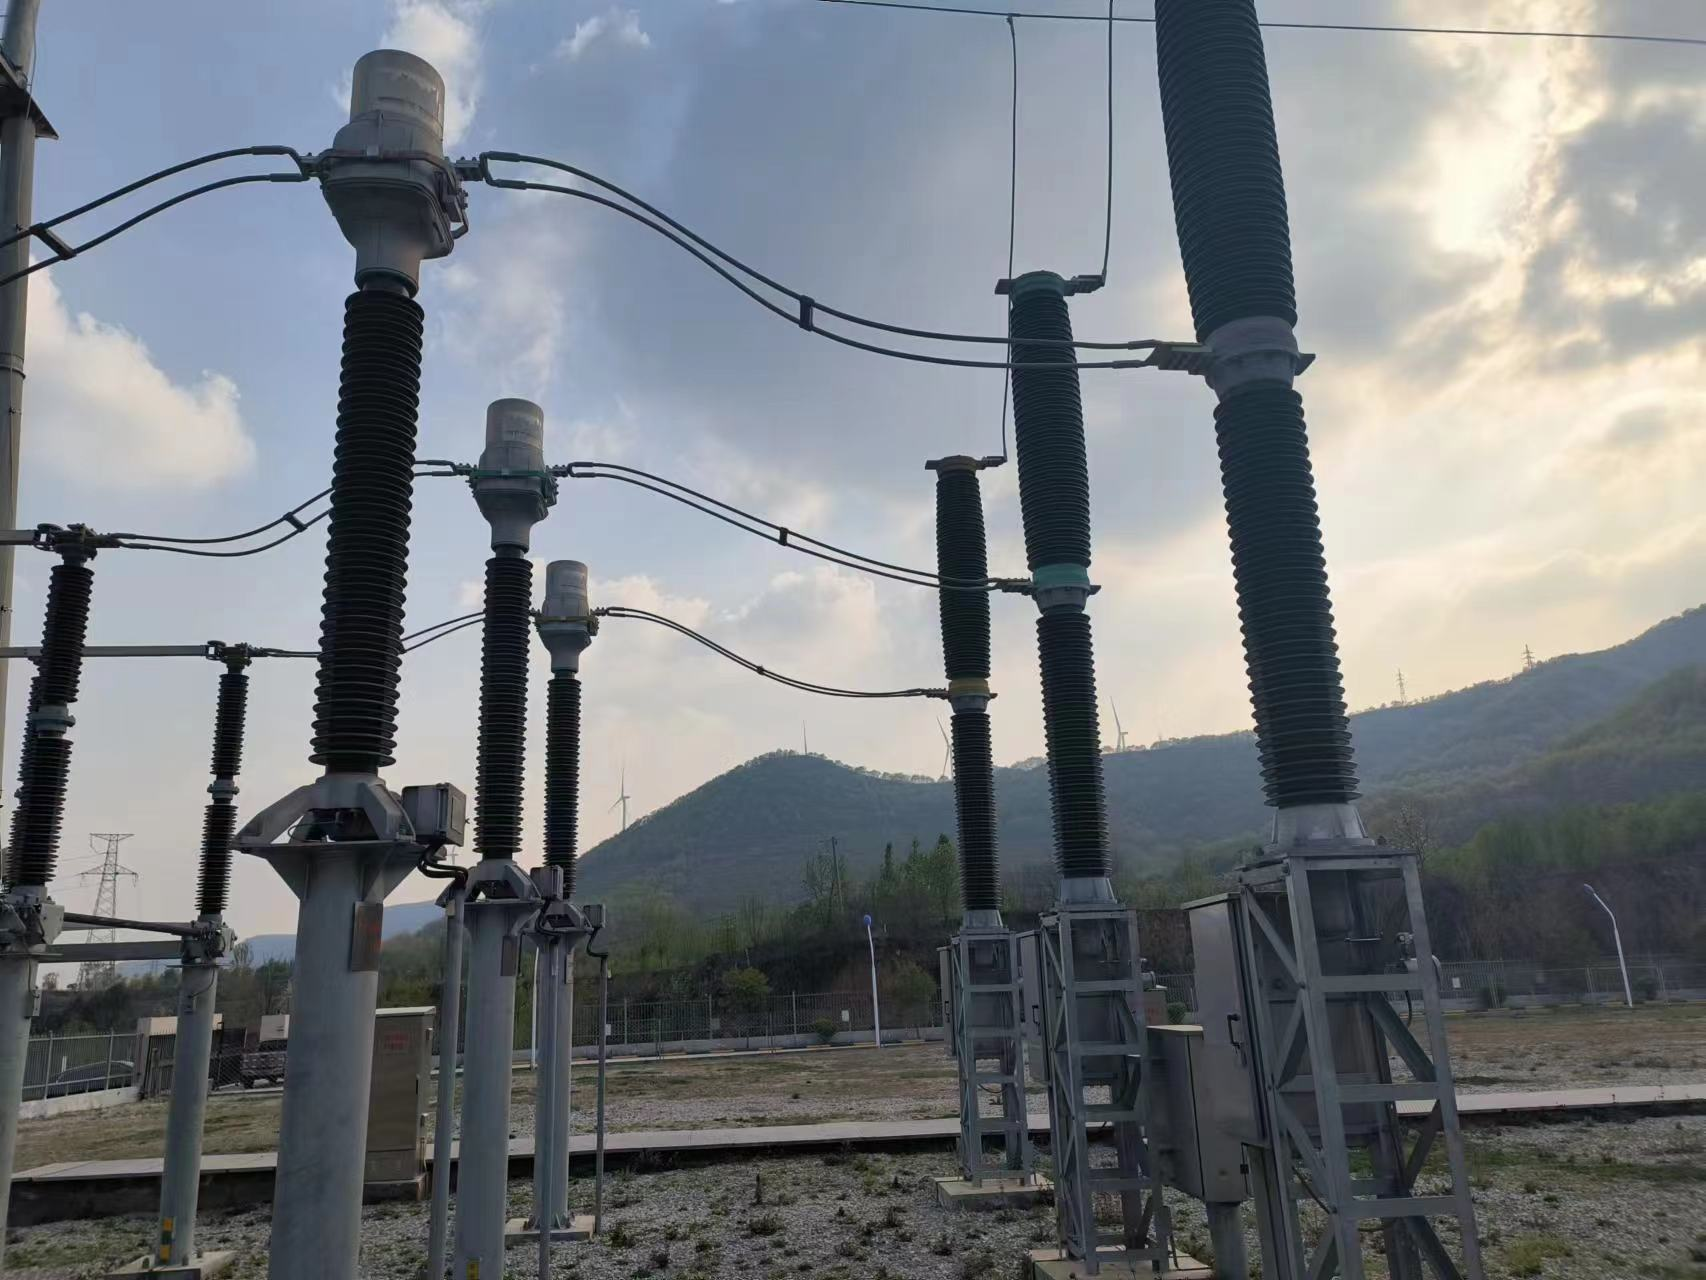Circuit-breaker: (999, 269, 1147, 878), (916, 446, 1007, 926)
